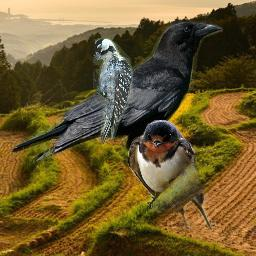Crow: (10, 21, 223, 170)
Swallow: (128, 120, 213, 231)
Woodpecker: (93, 38, 133, 144)
